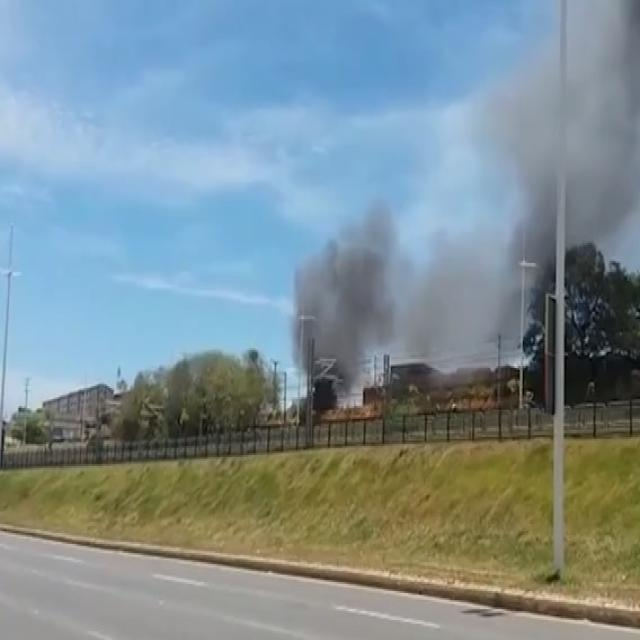Fire: (432, 390, 516, 414), (318, 404, 384, 426)
Smoke: (411, 0, 640, 375), (291, 206, 408, 395)
